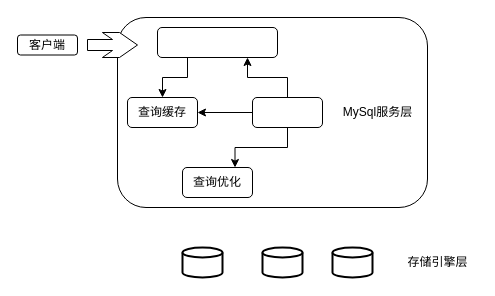
Some shapes in this 495 by 296 pixel diagram are drawn without their labels. The box of each missing label's shape, as (x1, y1, x2, y2) in pixels:
查询解析: (252, 96, 322, 128)
连接管理器: (156, 26, 278, 58)
